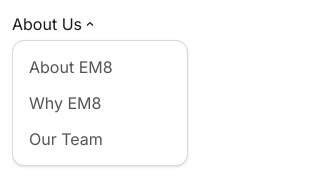
Test: NavDropdown, a parent with no destination (synthetic fixture) › opens on click and closes again
Click the button "About Us": (53, 24) [12,12,94,36]
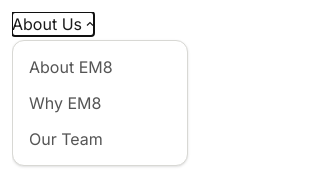
Click the button "About Us": (53, 24) [12,12,94,36]
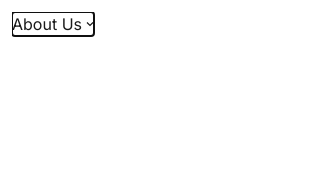
Result: the button "About Us" is collapsed at [12,12,94,36]
